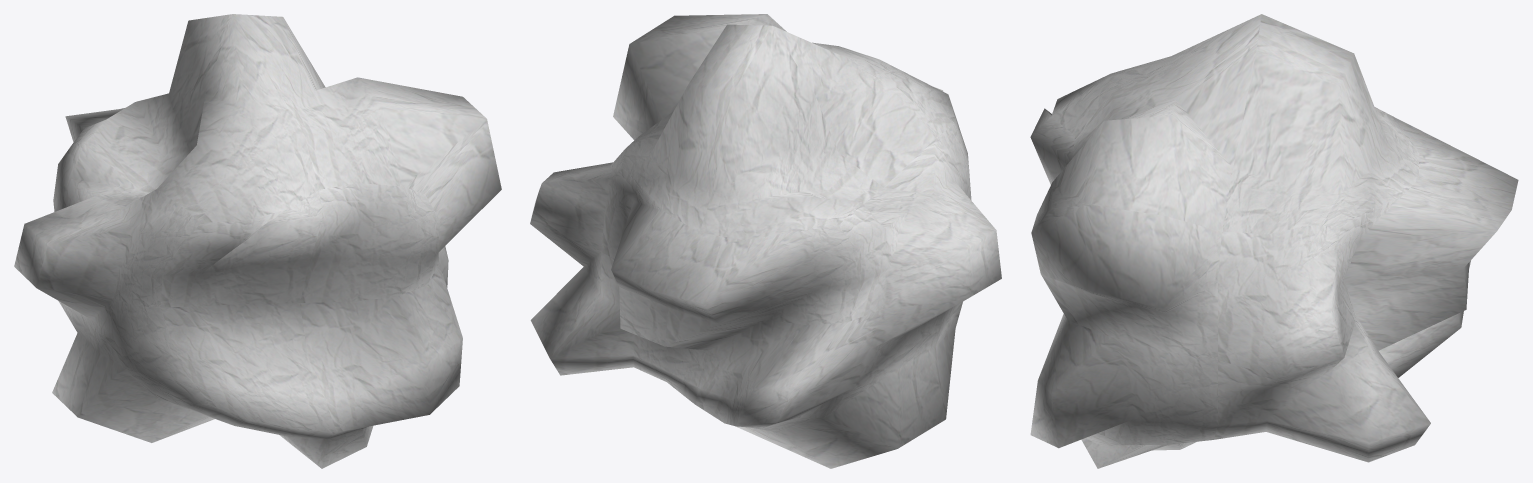
The model's file is BoulettePapier_MunitionBase.obj.
3 renders of one model, left to right at view 1: azimuth 30°, elevation 25°; view 2: azimuth 150°, elevation 25°; view 3: azimuth 270°, elevation 25°, orthographic. The views are drawn at different scales.
Visible parts, largest first — view 1: projectile_de_Base; view 2: projectile_de_Base; view 3: projectile_de_Base.
Part boxes in pixels (x1,y1,x2,y2): projectile_de_Base: (14, 14, 501, 468); projectile_de_Base: (530, 14, 1001, 468); projectile_de_Base: (1030, 14, 1518, 468).
Size of the model in its own units: 13.64 by 11.93 by 12.11.
Materials: 1 (1 with a texture image).
